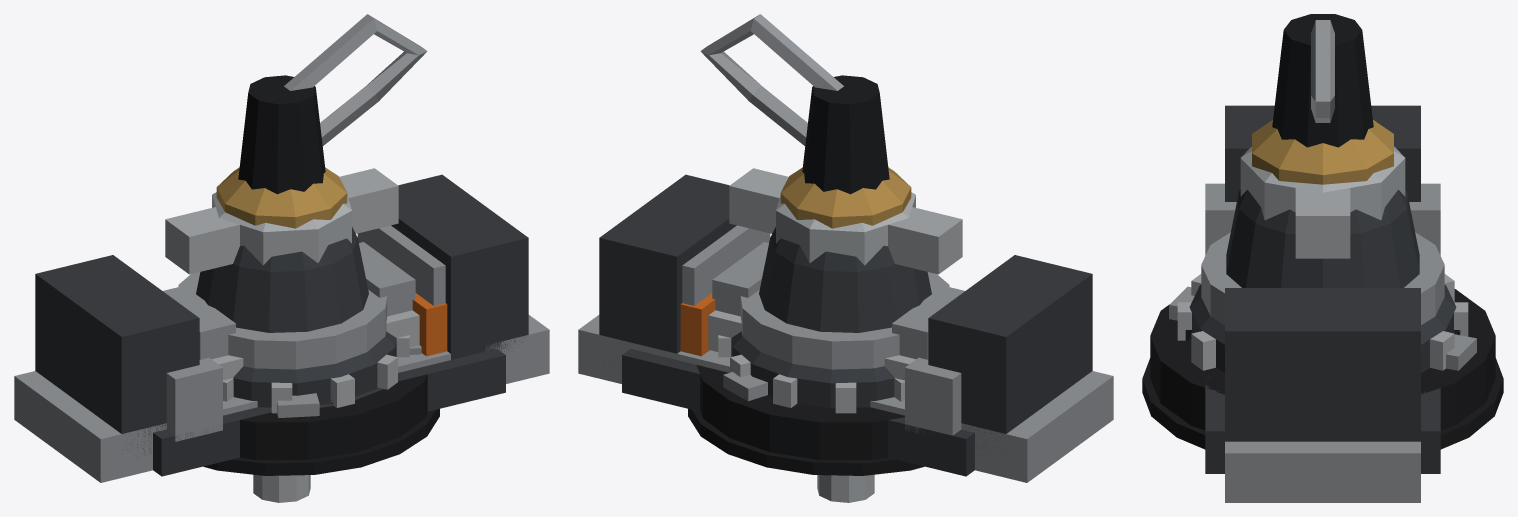
The model's file is hardware.glb.
The picture shows the model from 3 angles, left to right: view 1: azimuth 30°, elevation 25°; view 2: azimuth 150°, elevation 25°; view 3: azimuth 270°, elevation 25°; orthographic projection. The views are drawn at different scales.
Parts seen in each view (by area): view 1: ClampA, Plug, Socket, LatchA, PinA_Spin, ClampA_Spin, PinA, BoltA, LatchA_Spin; view 2: ClampA, Plug, Socket, LatchA, PinA_Spin, ClampA_Spin, PinA, BoltA, LatchA_Spin; view 3: ClampA, Plug, Socket, ClampA_Spin, PinA_Spin, LatchA, BoltA.
Part boxes in pixels (<box>): ClampA: <box>14,174,549,482</box>; Plug: <box>196,75,409,413</box>; Socket: <box>178,272,427,459</box>; LatchA: <box>153,225,505,476</box>; PinA_Spin: <box>216,14,427,502</box>; ClampA_Spin: <box>165,168,398,274</box>; PinA: <box>163,242,415,359</box>; BoltA: <box>203,409,439,475</box>; LatchA_Spin: <box>212,293,447,380</box>; ClampA: <box>578,174,1113,482</box>; Plug: <box>718,75,931,413</box>; Socket: <box>696,272,949,459</box>; LatchA: <box>622,225,974,476</box>; PinA_Spin: <box>700,14,911,502</box>; ClampA_Spin: <box>729,168,962,274</box>; PinA: <box>712,242,964,359</box>; BoltA: <box>688,409,924,475</box>; LatchA_Spin: <box>680,293,915,380</box>; ClampA: <box>1225,105,1420,502</box>; Plug: <box>1177,14,1468,372</box>; Socket: <box>1150,232,1495,430</box>; ClampA_Spin: <box>1240,146,1405,258</box>; PinA_Spin: <box>1252,20,1393,184</box>; LatchA: <box>1205,183,1440,473</box>; BoltA: <box>1142,358,1503,449</box>.
Size of the model in its own units: 0.15 by 0.1446 by 0.092.
